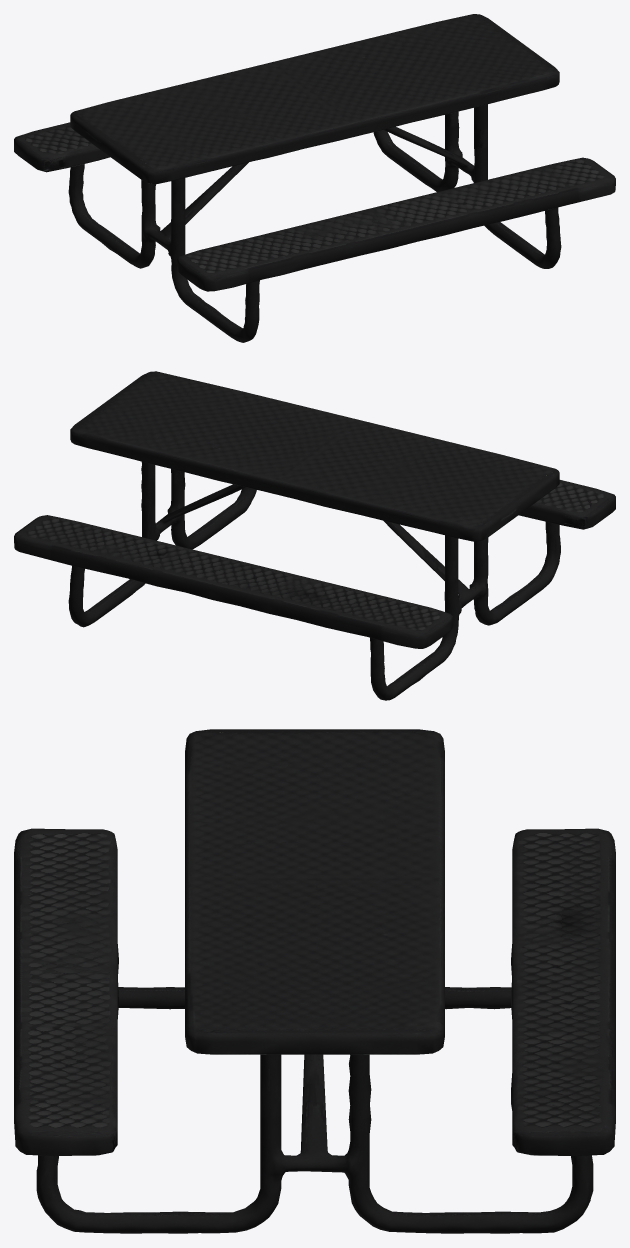
File: Metal_Picnic_Table__0403043723_texture.glb
3 views of the same model, one above another, from view 1: azimuth 30°, elevation 25°; view 2: azimuth 150°, elevation 25°; view 3: azimuth 270°, elevation 25° (orthographic). The views are drawn at different scales.
Visible parts, largest first — view 1: Mesh_0.003; view 2: Mesh_0.003; view 3: Mesh_0.003.
Part boxes in pixels (box(x1,y1,x2,y2)): Mesh_0.003: box(14, 14, 615, 342); Mesh_0.003: box(14, 371, 615, 700); Mesh_0.003: box(14, 729, 615, 1233).
Bounding box in the file's own units: 2.11 × 0.762 × 1.74.
Materials: 1 (1 with a texture image).
